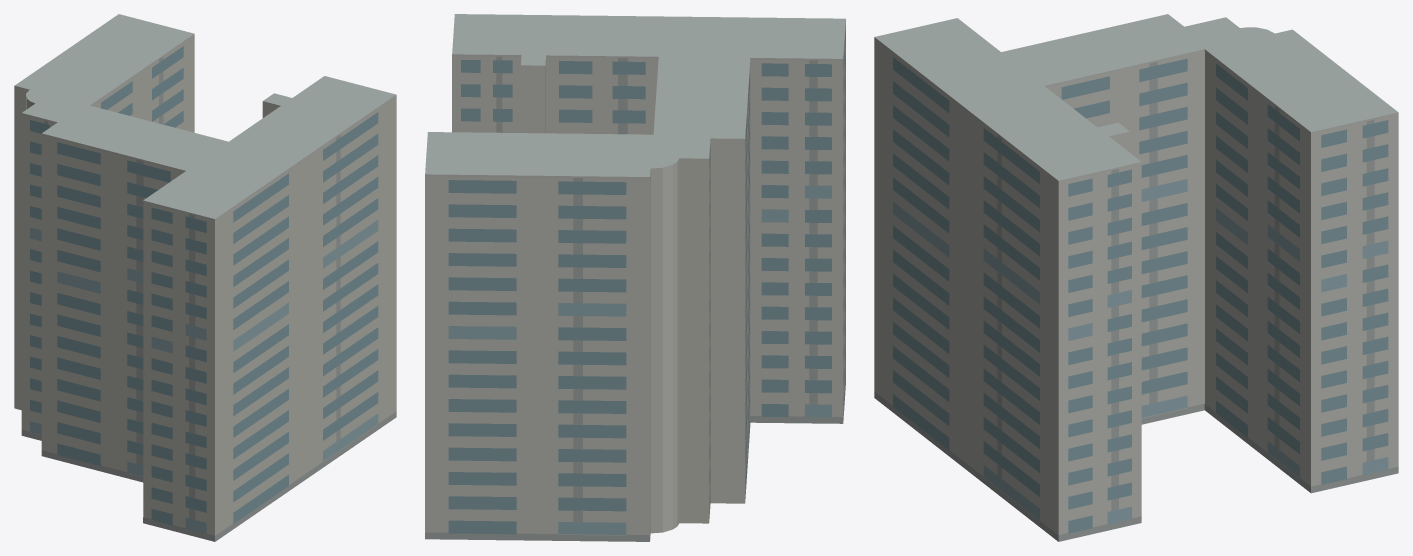
Rendered from residential-d3cc21ab-57cd-481f-adb1-5fcc45ddab7a.glb.
3 renders of one model, left to right at view 1: azimuth 30°, elevation 25°; view 2: azimuth 150°, elevation 25°; view 3: azimuth 270°, elevation 25°, orthographic. The views are drawn at different scales.
Visible parts, largest first — view 1: residential-d3cc21ab-57cd-481f-adb1-5fcc45ddab7a.tmp; view 2: residential-d3cc21ab-57cd-481f-adb1-5fcc45ddab7a.tmp; view 3: residential-d3cc21ab-57cd-481f-adb1-5fcc45ddab7a.tmp.
Boxes of the visible parts, <box> form: residential-d3cc21ab-57cd-481f-adb1-5fcc45ddab7a.tmp: <box>14,14,396,541</box>; residential-d3cc21ab-57cd-481f-adb1-5fcc45ddab7a.tmp: <box>425,14,845,541</box>; residential-d3cc21ab-57cd-481f-adb1-5fcc45ddab7a.tmp: <box>874,14,1398,541</box>.
Bounding box in the file's own units: 49.58 × 50 × 65.79.
